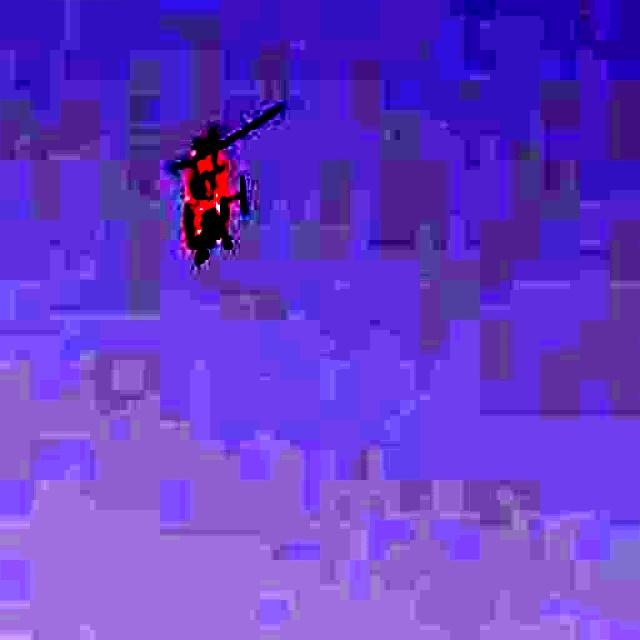drone: (102, 86, 299, 294)
